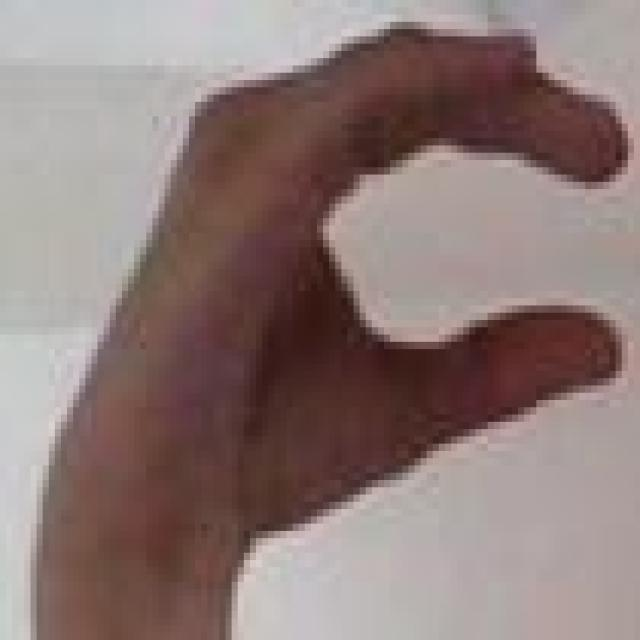C: (66, 5, 640, 502)
